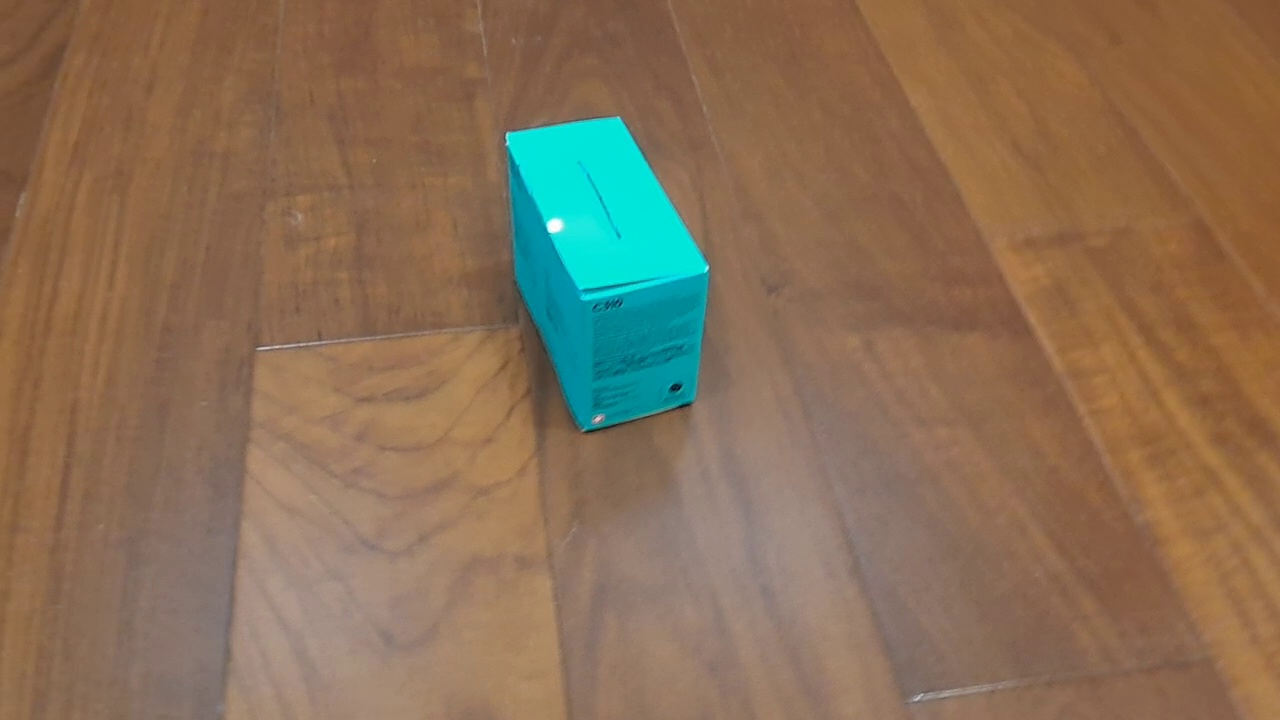webcam: (504, 113, 709, 433)
